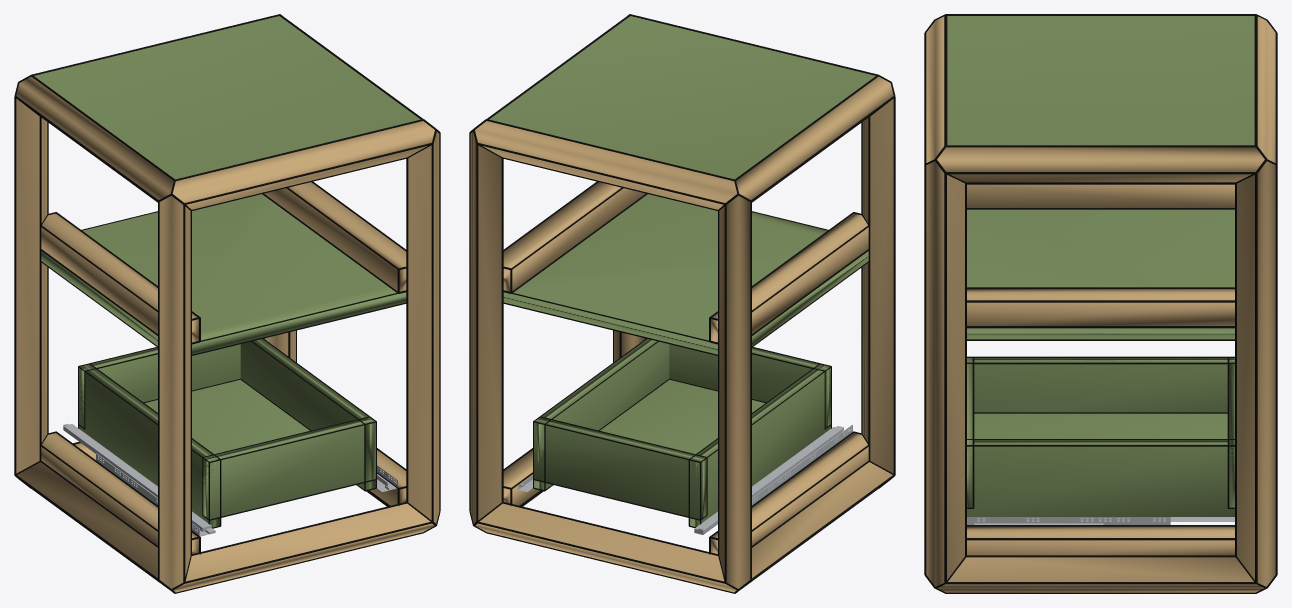
File: 002-table-chevet.glb
3 renders of one model, left to right at view 1: azimuth 30°, elevation 25°; view 2: azimuth 150°, elevation 25°; view 3: azimuth 270°, elevation 25°, orthographic. The views are drawn at different scales.
Visible parts, largest first — view 1: panneau-dessus_exterieur, tablette-plate-mod-0, arete-Z0, arete-Z1, arete-Z2, drawer-box-fond-mod-1, arete-X2, arete-X0, drawer-box-joue_g-mod-1, drawer-box-joue_d-mod-1, drawer-box-dessous-mod-1, tablette-traverse-right-mod-0 (+22 smaller); view 2: panneau-dessus_exterieur, tablette-plate-mod-0, arete-Z2, arete-Z3, arete-Z0, drawer-box-arriere-mod-1, arete-X3, arete-X1, drawer-box-joue_g-mod-1, drawer-box-joue_d-mod-1, drawer-box-dessous-mod-1, tablette-traverse-right-mod-0 (+22 smaller); view 3: panneau-dessus_exterieur, tablette-plate-mod-0, drawer-box-joue_d-mod-1, arete-Z1, arete-Z3, drawer-box-joue_g-mod-1, arete-Y3, arete-Y1, tablette-traverse-right-mod-0, drawer-tr-drawer-traverse-right-mod-1, drawer-box-dessous-mod-1, tablette-traverse-left-mod-0 (+21 smaller).
Boxes of the visible parts, x1,y1,x2,y2 form: panneau-dessus_exterieur: (34, 16, 420, 179); tablette-plate-mod-0: (41, 194, 406, 354); arete-Z0: (159, 195, 190, 588); arete-Z1: (408, 131, 439, 523); arete-Z2: (16, 98, 47, 473); drawer-box-fond-mod-1: (203, 418, 375, 519); arete-X2: (172, 121, 434, 209); arete-X0: (173, 503, 434, 592); drawer-box-joue_g-mod-1: (79, 364, 219, 527); drawer-box-joue_d-mod-1: (240, 339, 375, 489); drawer-box-dessous-mod-1: (145, 379, 309, 454); tablette-traverse-right-mod-0: (264, 182, 406, 291); panneau-dessus_exterieur: (489, 16, 875, 179); tablette-plate-mod-0: (503, 194, 868, 354); arete-Z2: (719, 195, 750, 588); arete-Z3: (470, 131, 501, 523); arete-Z0: (862, 98, 893, 473); drawer-box-arriere-mod-1: (534, 417, 706, 519); arete-X3: (475, 121, 737, 209); arete-X1: (475, 503, 736, 592); drawer-box-joue_g-mod-1: (690, 364, 830, 526); drawer-box-joue_d-mod-1: (534, 339, 669, 489); drawer-box-dessous-mod-1: (600, 379, 764, 454); tablette-traverse-right-mod-0: (503, 182, 645, 291); panneau-dessus_exterieur: (947, 16, 1254, 145); tablette-plate-mod-0: (967, 209, 1234, 339); drawer-box-joue_d-mod-1: (967, 440, 1234, 516); arete-Z1: (926, 161, 964, 586); arete-Z3: (1237, 161, 1275, 586); drawer-box-joue_g-mod-1: (967, 358, 1234, 412); arete-Y3: (937, 147, 1264, 182); arete-Y1: (937, 557, 1264, 592); tablette-traverse-right-mod-0: (967, 289, 1234, 325); drawer-tr-drawer-traverse-right-mod-1: (967, 526, 1234, 555); drawer-box-dessous-mod-1: (974, 413, 1227, 438); tablette-traverse-left-mod-0: (967, 184, 1234, 207).
Bounding box in the file's own units: 0.3738 × 0.5238 × 0.3738.
